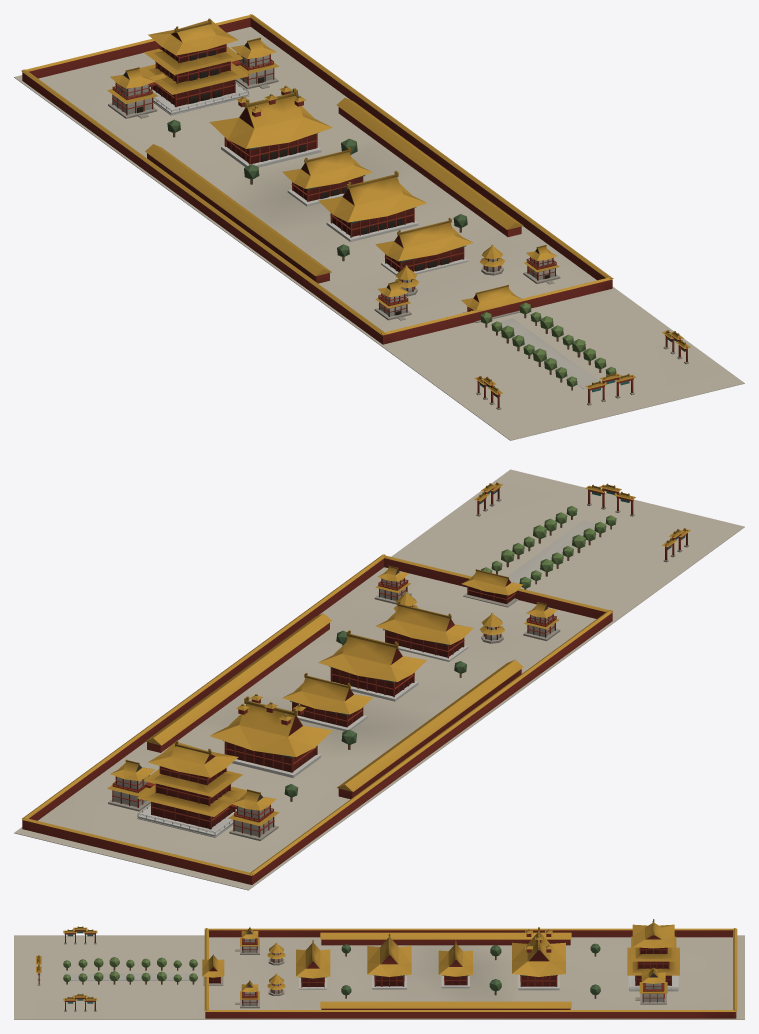
File: yonghegong.glb
3 renders of one model, top to bottom at view 1: azimuth 30°, elevation 25°; view 2: azimuth 150°, elevation 25°; view 3: azimuth 270°, elevation 25°, orthographic. The views are drawn at different scales.
Parts seen in each view (by area): view 1: p0_walls, p1_halls, p2_trees; view 2: p0_walls, p1_halls, p2_trees; view 3: p0_walls, p2_trees, p1_halls.
Boxes of the visible parts, x1=… form: p0_walls: x1=14, y1=14, x2=744, y2=440; p1_halls: x1=108, y1=44, x2=690, y2=409; p2_trees: x1=107, y1=18, x2=616, y2=390; p0_walls: x1=14, y1=469, x2=744, y2=890; p1_halls: x1=108, y1=482, x2=690, y2=840; p2_trees: x1=107, y1=506, x2=616, y2=826; p0_walls: x1=14, y1=928, x2=744, y2=1019; p2_trees: x1=63, y1=919, x2=679, y2=999; p1_halls: x1=36, y1=926, x2=671, y2=1011.
Size of the model in its own units: 120 by 35.14 by 440.
